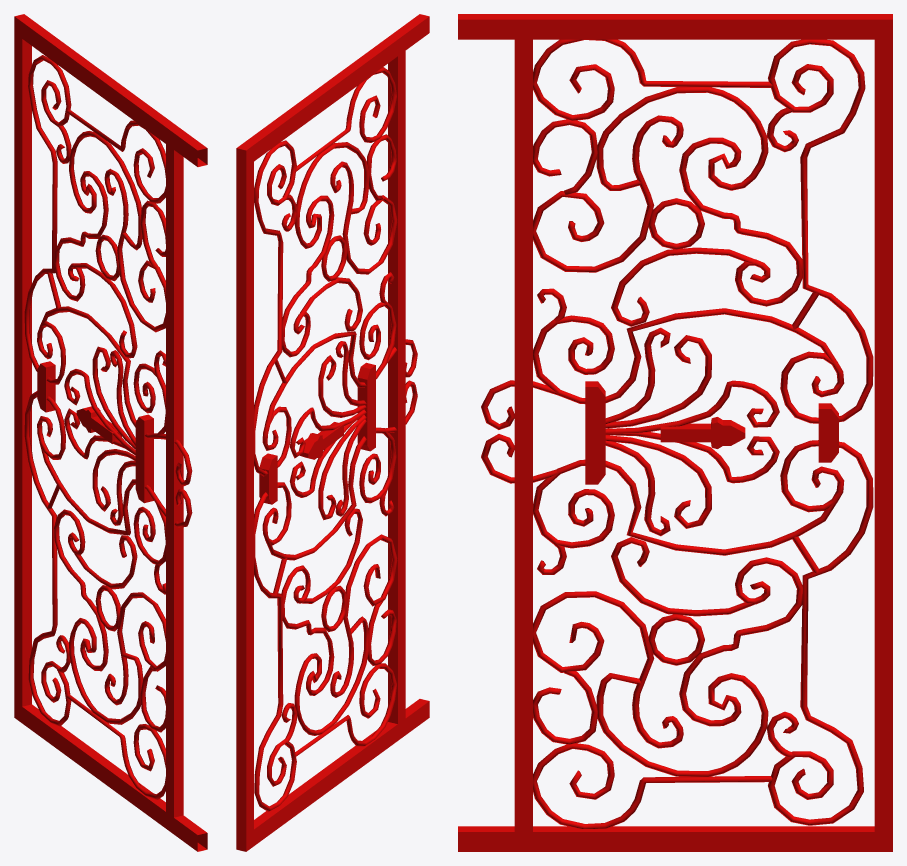
File: SM_Park_Fence_01.FBX
3 views of the same model, side by side, from view 1: azimuth 30°, elevation 25°; view 2: azimuth 150°, elevation 25°; view 3: azimuth 270°, elevation 25° (orthographic). The views are drawn at different scales.
Parts seen in each view (by area): view 1: SM_Park_Fence_01_LOD0; view 2: SM_Park_Fence_01_LOD0; view 3: SM_Park_Fence_01_LOD0.
Part boxes in pixels (left/top/right/bottom): SM_Park_Fence_01_LOD0: left=14, top=14, right=207, bottom=851; SM_Park_Fence_01_LOD0: left=236, top=14, right=429, bottom=851; SM_Park_Fence_01_LOD0: left=458, top=14, right=892, bottom=851.
Size of what is drawn, in the model's own units: 2.58 by 83.86 by 177.
